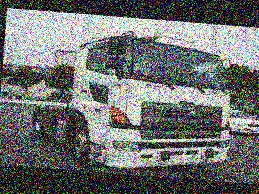truck: (29, 22, 236, 181)
